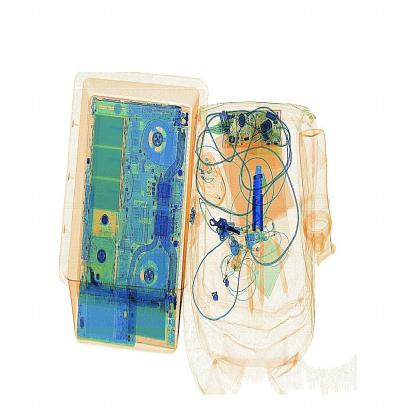pliers: (243, 158, 271, 238)
